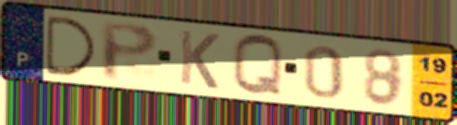0: (301, 43, 349, 99)
8: (360, 47, 405, 107)
D: (43, 13, 100, 78)
K: (177, 28, 222, 92)
P: (99, 20, 162, 84)
Q: (230, 32, 286, 99)
